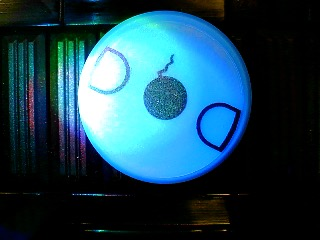CRACK: (76, 10, 253, 184)
